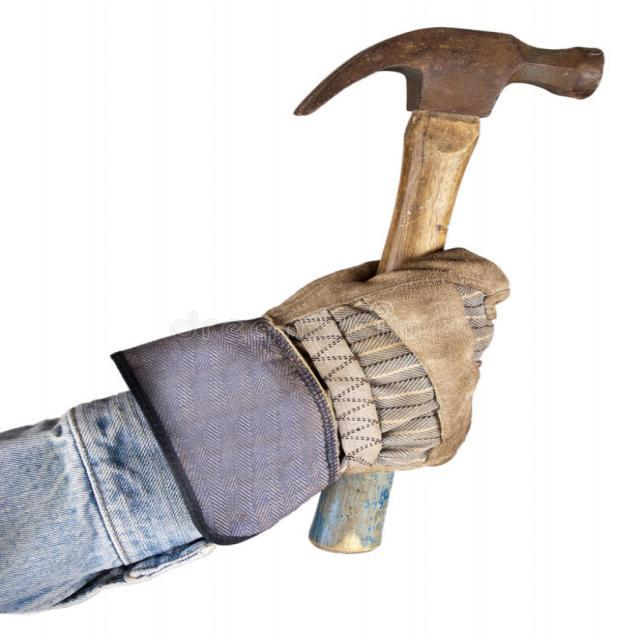hammer: (281, 17, 619, 564)
